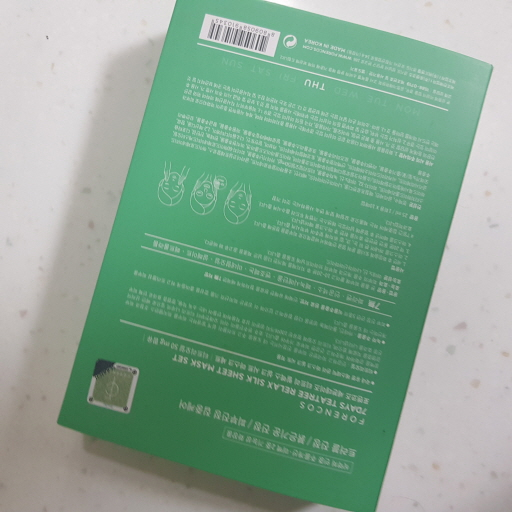Paper_0: (57, 2, 498, 512)
